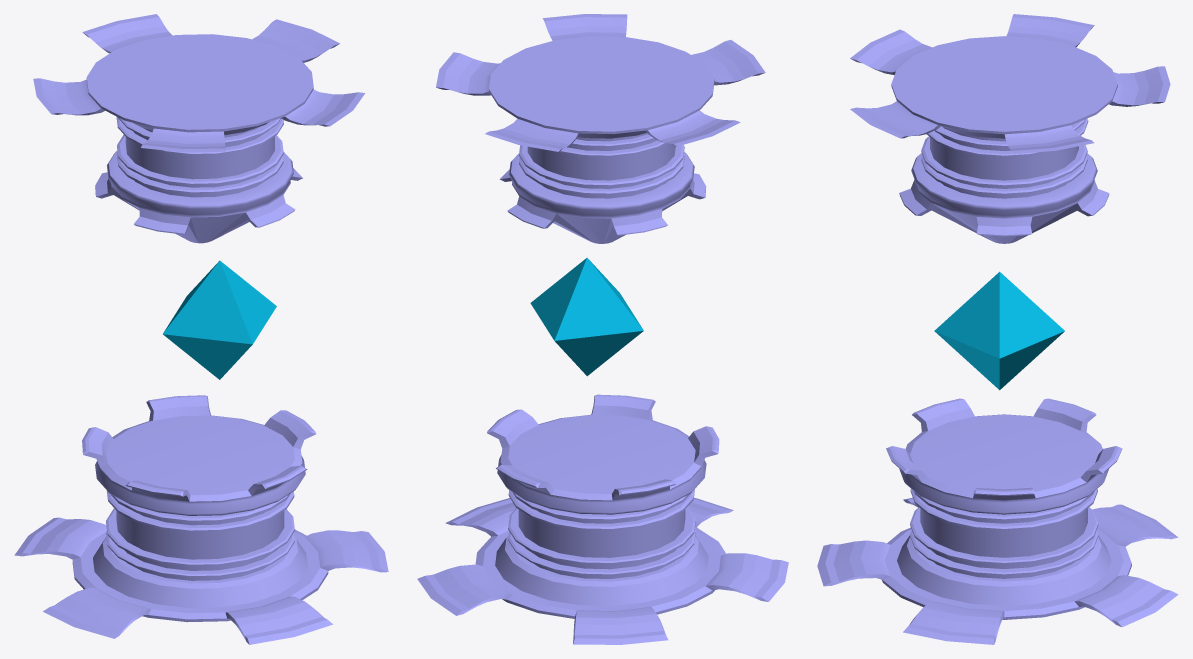
3 renders of one model, left to right at view 1: azimuth 30°, elevation 25°; view 2: azimuth 150°, elevation 25°; view 3: azimuth 270°, elevation 25°, orthographic.
Visible parts, largest first — view 1: Tower11, Tower12, Crystal7; view 2: Tower11, Tower12, Crystal7; view 3: Tower11, Tower12, Crystal7.
Part boxes in pixels (x1,y1,x2,y2): Tower11: (14,395,388,644); Tower12: (33,14,365,243); Crystal7: (163,260,276,379); Tower11: (417,394,788,644); Tower12: (436,14,765,243); Crystal7: (530,257,643,376); Tower11: (817,398,1178,644); Tower12: (850,14,1170,243); Crystal7: (934,271,1064,390).
Bounding box in the file's own units: 1.15 × 1.64 × 1.12.
